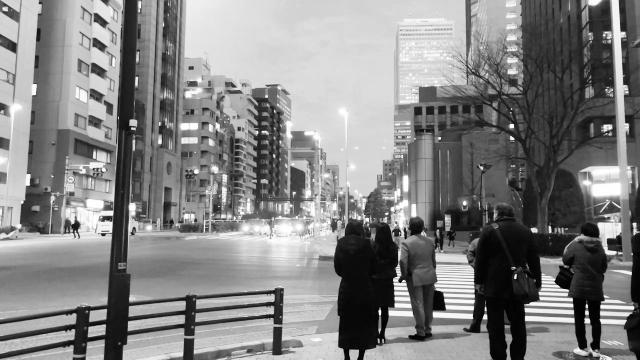berdiri: (476, 198, 542, 356), (328, 214, 379, 357), (560, 213, 608, 357), (398, 206, 444, 338), (365, 218, 403, 346)
